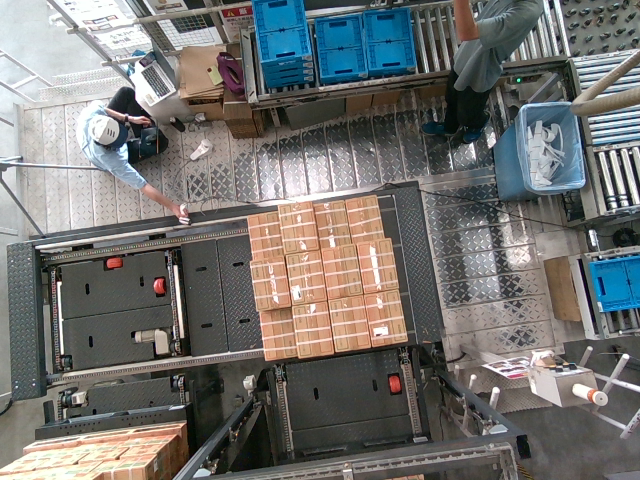box: (355, 237, 398, 292), (320, 243, 361, 297), (365, 293, 406, 347), (250, 255, 289, 311), (293, 303, 331, 360), (331, 294, 367, 352), (285, 249, 325, 301), (276, 202, 318, 251), (345, 194, 385, 242), (314, 196, 350, 246), (260, 308, 295, 359), (247, 212, 285, 258)
